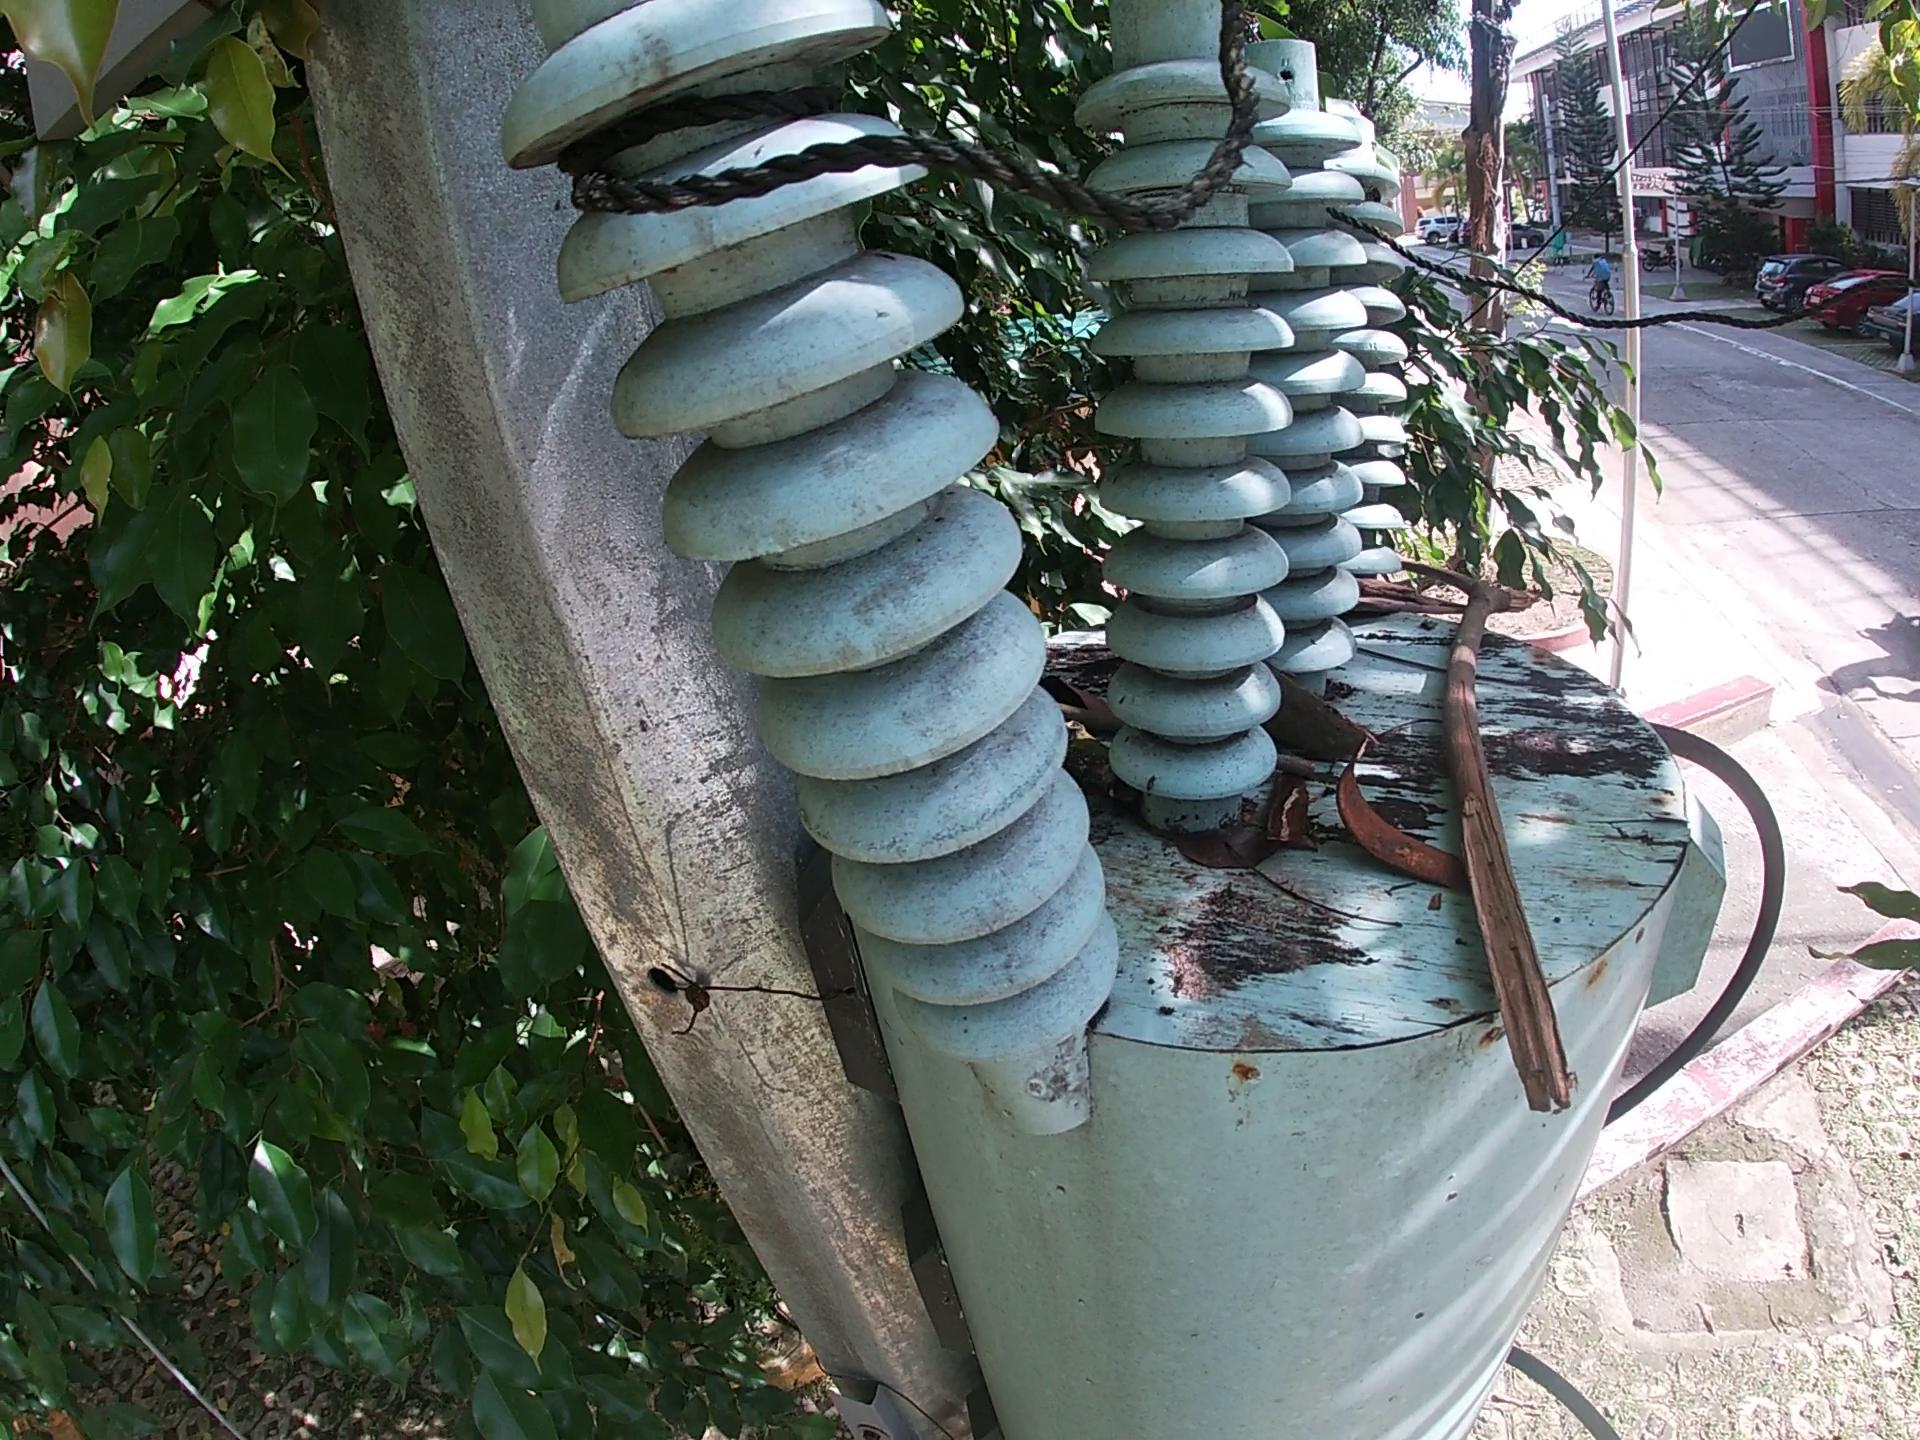leaf: (1155, 832, 1267, 886), (1042, 676, 1117, 735)
mahogany fruit: (1324, 746, 1466, 906), (1273, 684, 1386, 759)
tree branch: (1401, 555, 1618, 1142), (1241, 867, 1409, 942), (1246, 777, 1355, 867), (1358, 643, 1563, 690), (1358, 575, 1471, 632), (1067, 728, 1144, 808), (1060, 703, 1123, 729), (1276, 761, 1312, 779)
